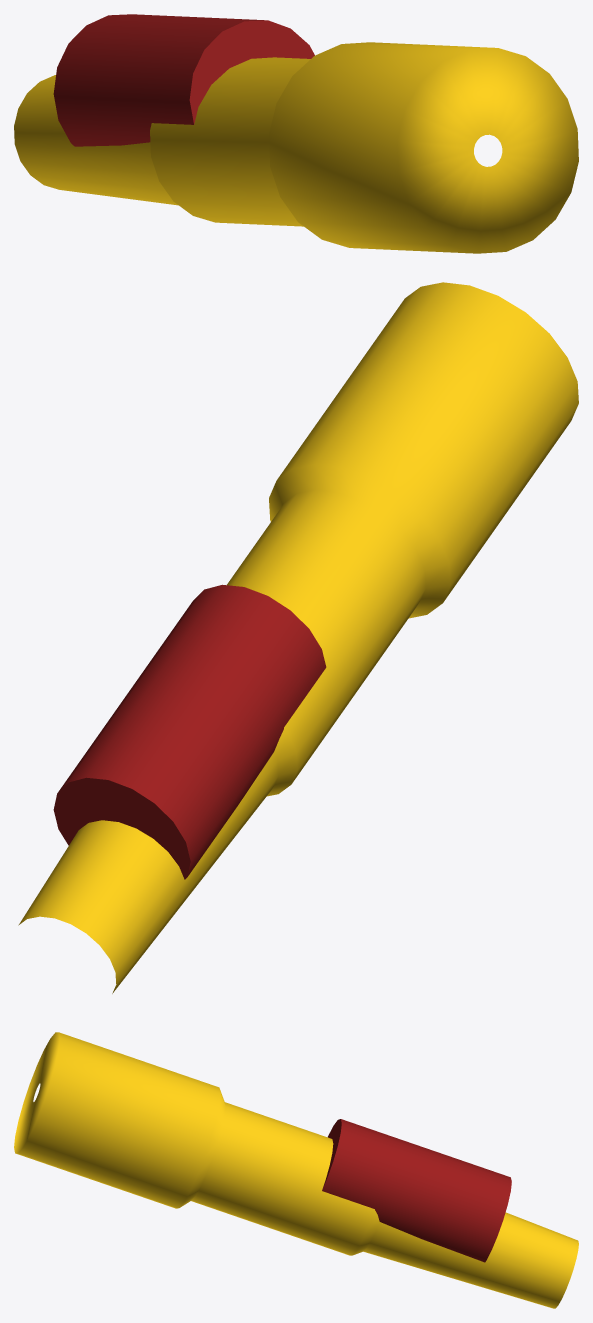
File: spyglass.glb
3 renders of one model, top to bottom at view 1: azimuth 30°, elevation 25°; view 2: azimuth 150°, elevation 25°; view 3: azimuth 270°, elevation 25°, orthographic. The views are drawn at different scales.
Visible parts, largest first — view 1: spyglass_barrel, spyglass_grip; view 2: spyglass_barrel, spyglass_grip; view 3: spyglass_barrel, spyglass_grip.
Boxes of the visible parts, <box> form: spyglass_barrel: <box>14,42,578,253</box>; spyglass_grip: <box>53,14,314,146</box>; spyglass_barrel: <box>18,282,578,993</box>; spyglass_grip: <box>53,584,326,879</box>; spyglass_barrel: <box>14,1032,578,1308</box>; spyglass_grip: <box>322,1119,511,1262</box>.
Size of the model in its own units: 0.064 by 0.146 by 0.2795.
